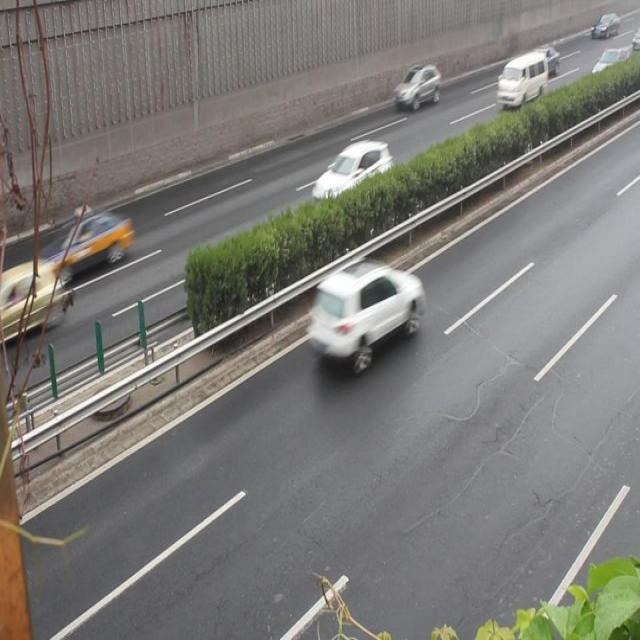car: (305, 259, 422, 366), (35, 213, 132, 281), (309, 140, 391, 217), (0, 263, 64, 341), (394, 63, 440, 112)
truck: (496, 52, 547, 108)
